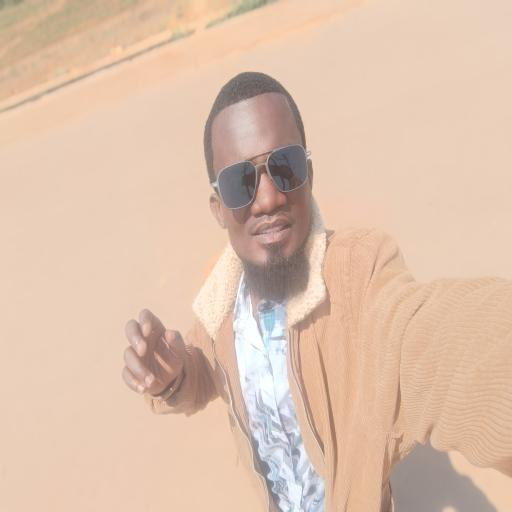MATTHIEU: (193, 77, 331, 291)
